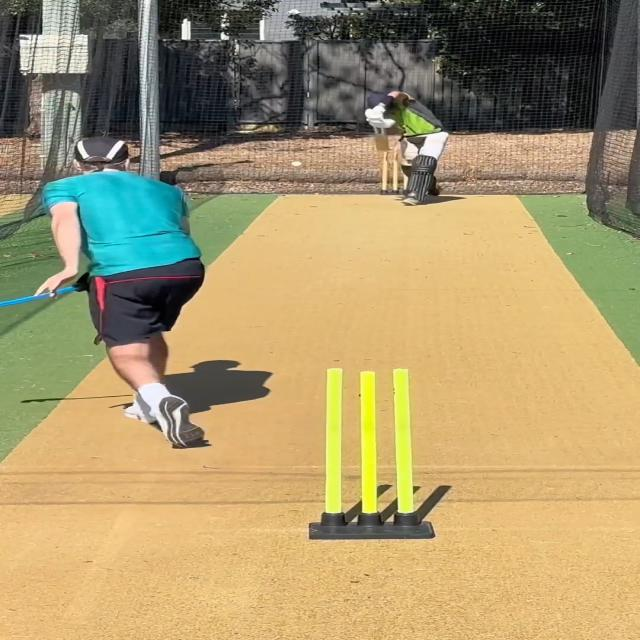ball: (288, 160, 304, 168)
stump: (308, 368, 436, 539), (382, 147, 408, 195)
